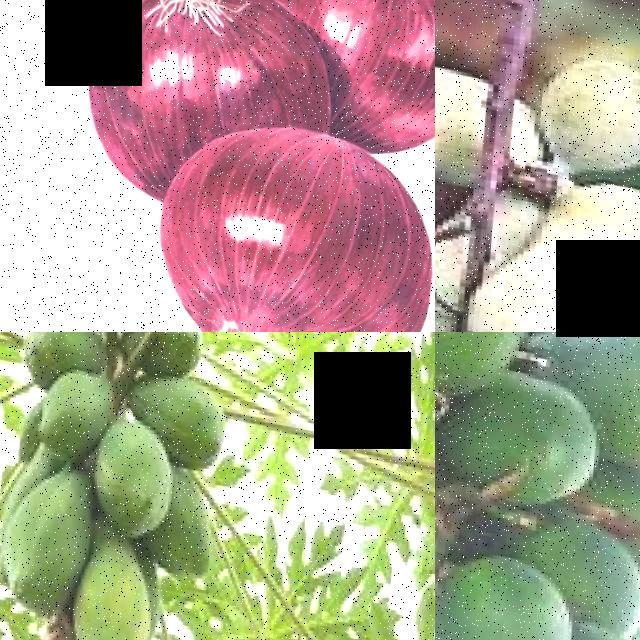onion: (156, 121, 435, 332), (74, 0, 318, 134), (313, 0, 435, 157)
pawpaw: (446, 358, 596, 503), (0, 449, 91, 616), (435, 534, 577, 640), (74, 518, 154, 640), (96, 410, 173, 529), (146, 367, 235, 461), (42, 359, 119, 459), (584, 332, 640, 465)
